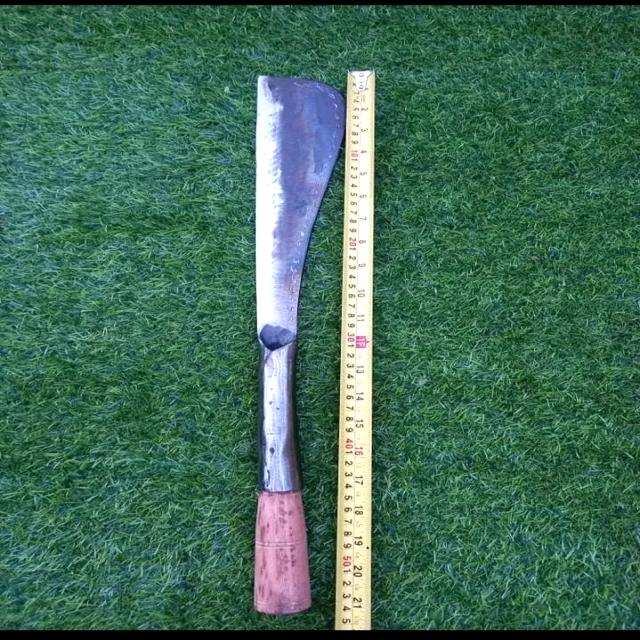eto: (244, 74, 351, 618)
